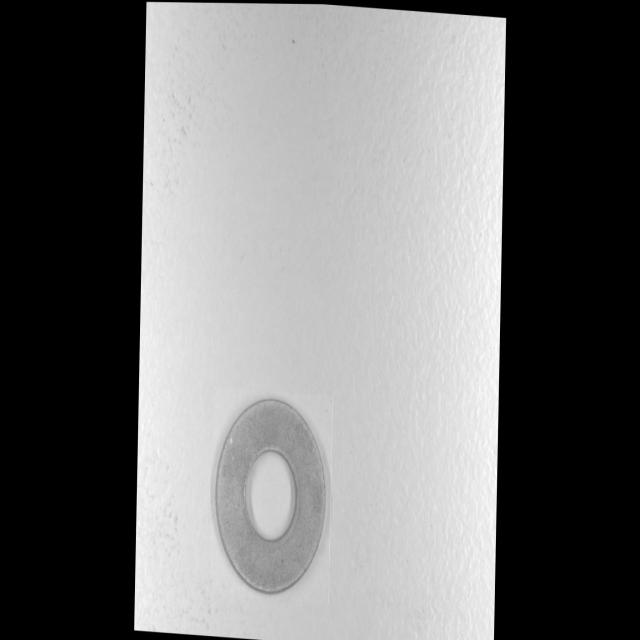washer: (212, 391, 330, 600)
